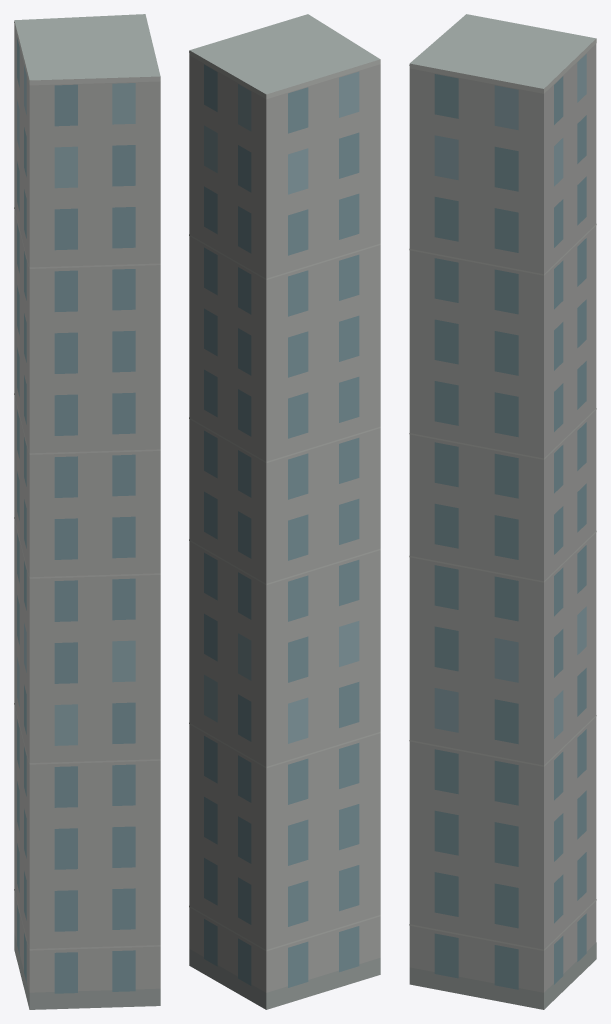
The model's file is survey-upis-32916385.glb.
3 renders of one model, left to right at view 1: azimuth 30°, elevation 25°; view 2: azimuth 150°, elevation 25°; view 3: azimuth 270°, elevation 25°, orthographic.
Visible parts, largest first — view 1: survey-upis-32916385.tmp; view 2: survey-upis-32916385.tmp; view 3: survey-upis-32916385.tmp.
Part boxes in pixels (x1,y1,x2,y2): survey-upis-32916385.tmp: [14, 14, 160, 1009]; survey-upis-32916385.tmp: [189, 14, 380, 1009]; survey-upis-32916385.tmp: [409, 14, 596, 1009].
Size of the model in its own units: 8.01 by 45.75 by 8.44.
